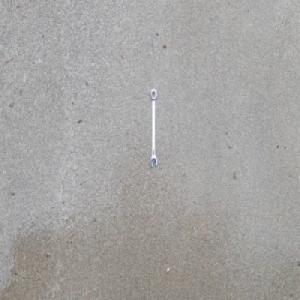Wrench: (150, 87, 157, 170)
